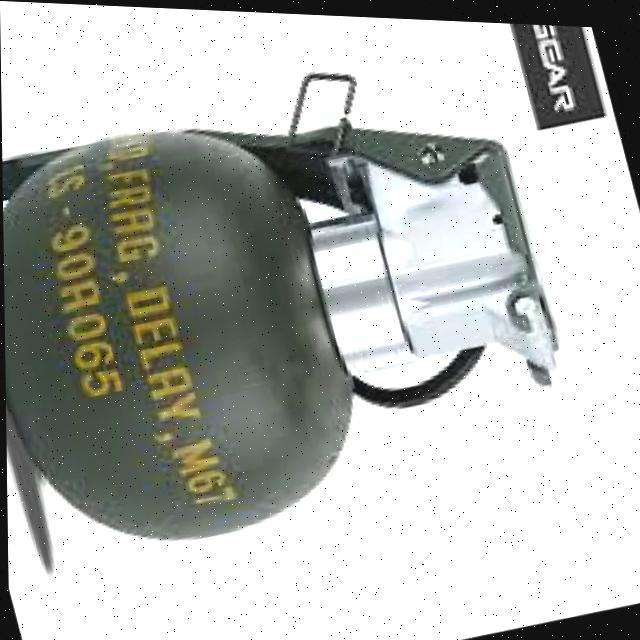grenade: (0, 10, 609, 594)
